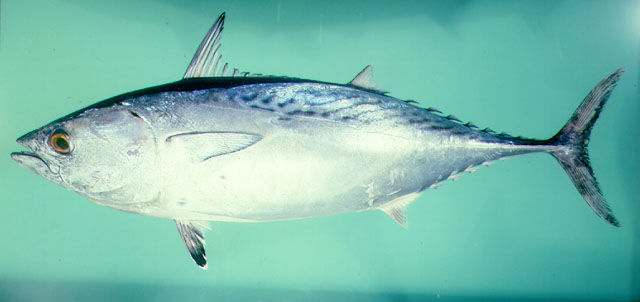fish: (9, 10, 626, 272)
